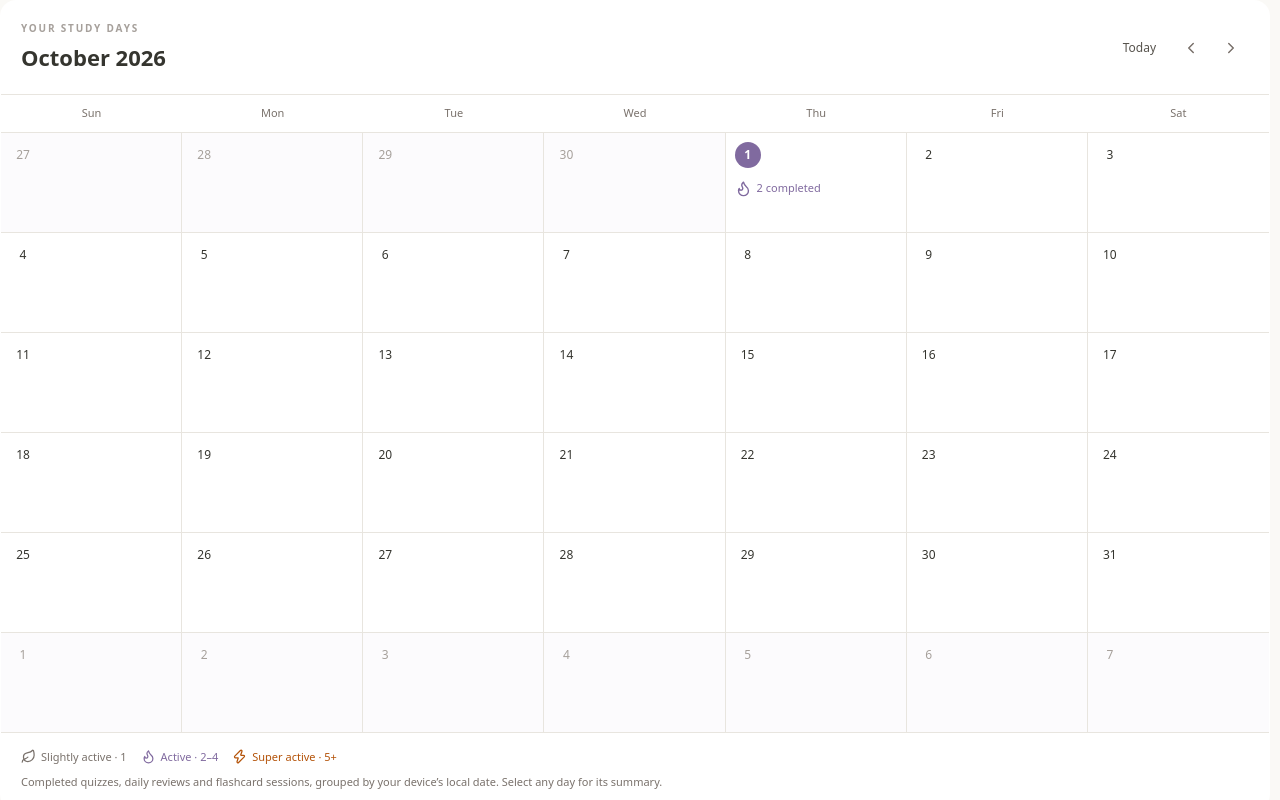
Test: calendar groups local days and shows weighted day summaries
What coordinates should you click on to do the following:
click the button "1 2 completed"
I would click on:
 (816, 182)
Its box is 726,132 -> 907,232.
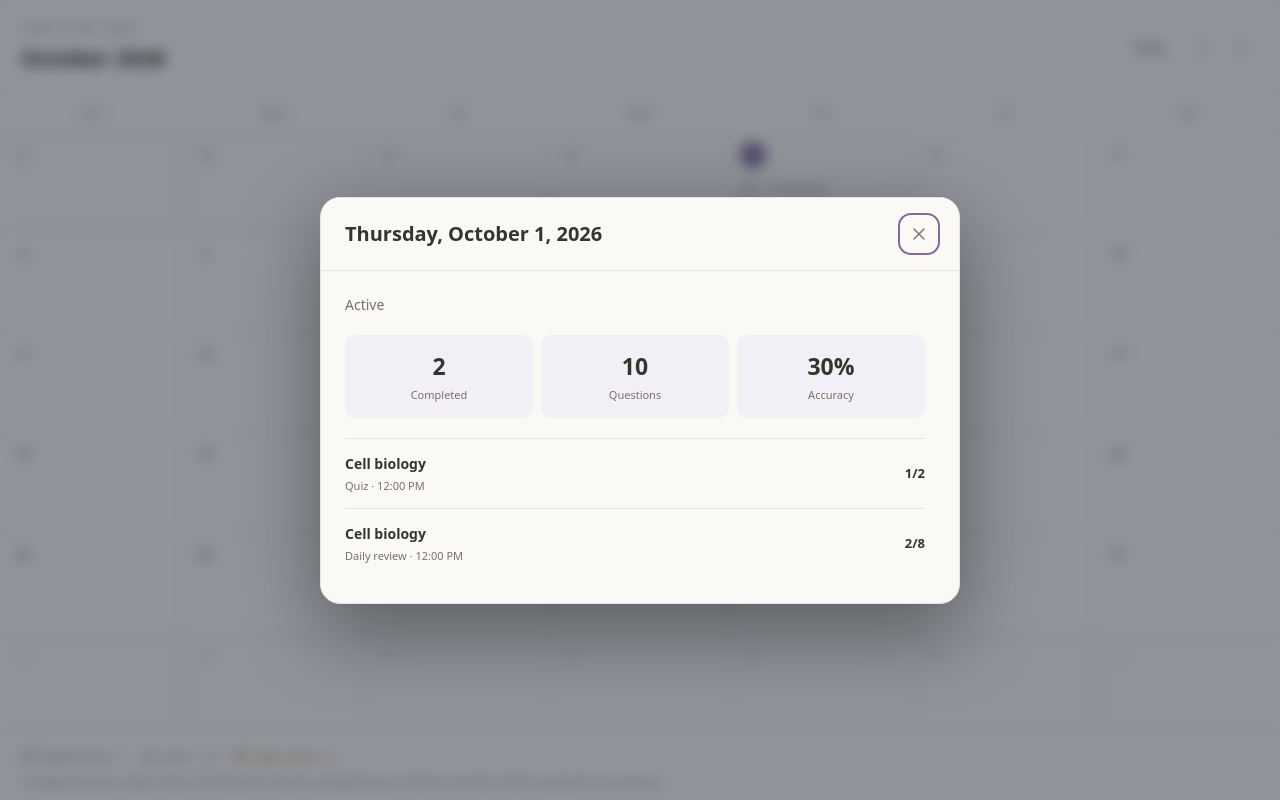
What coordinates should you click on to do the following:
click the button named "Close dialog"
I would click on:
 (919, 234)
Its box is 903,218 -> 935,250.
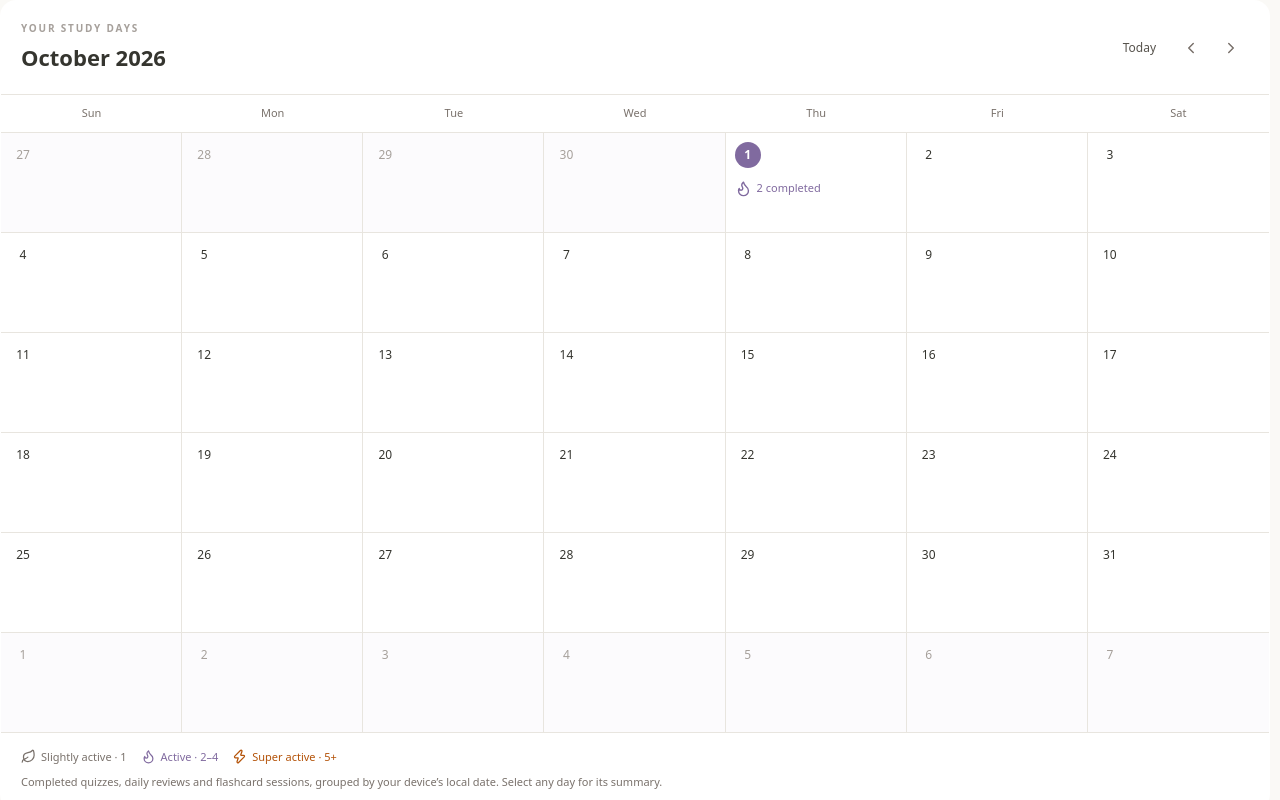
expect the dialog is gone: met
